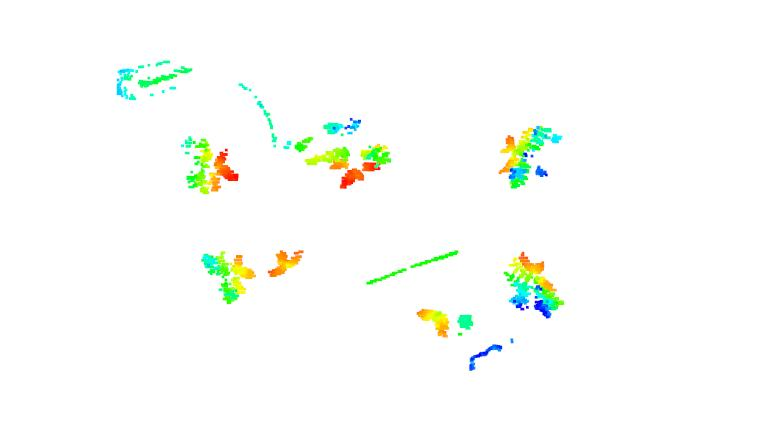chickpea: (304, 123, 393, 188), (498, 126, 561, 191), (502, 253, 565, 318), (180, 135, 239, 193), (200, 248, 254, 309), (414, 304, 479, 343), (264, 243, 308, 278)
